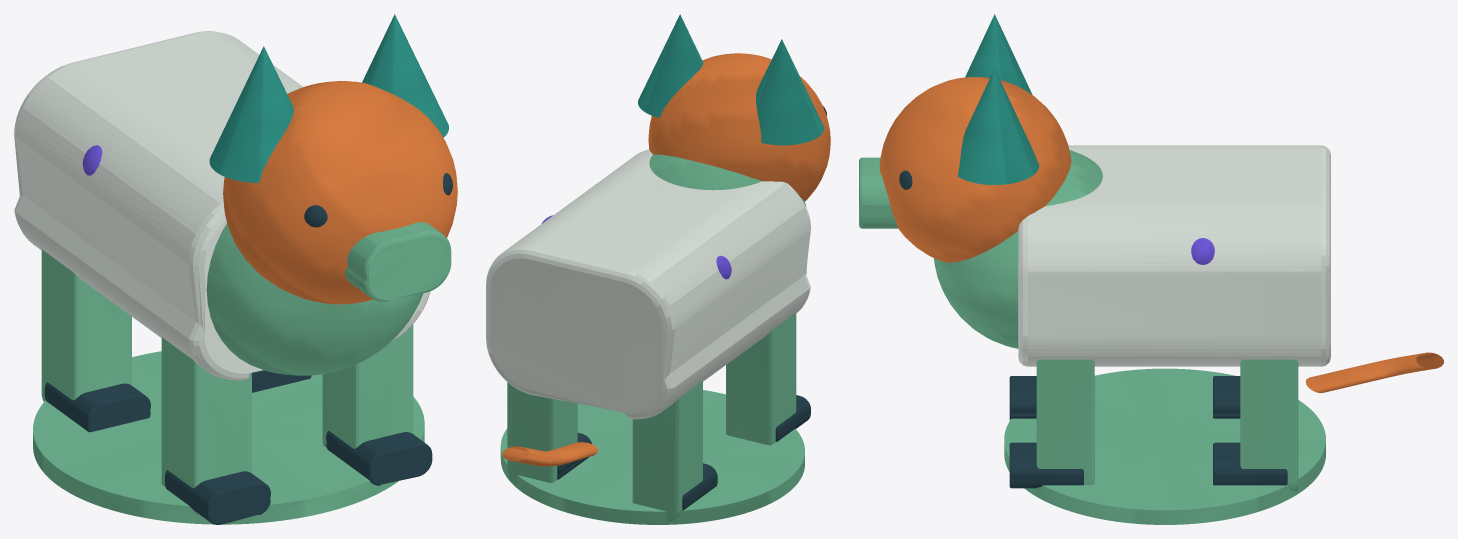
File: 0879_森林动物图鉴_美洲角雕.glb
The picture shows the model from 3 angles, left to right: view 1: azimuth 30°, elevation 25°; view 2: azimuth 150°, elevation 25°; view 3: azimuth 270°, elevation 25°; orthographic projection. The views are drawn at different scales.
Visible parts, largest first — view 1: card_0879; view 2: card_0879; view 3: card_0879.
Part boxes in pixels (x1,y1,x2,y2): card_0879: [14, 14, 457, 524]; card_0879: [486, 14, 830, 524]; card_0879: [859, 14, 1443, 524].
Bounding box in the file's own units: 0.7357 × 1 × 1.28.
